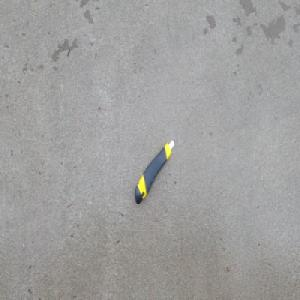Cutter: (134, 138, 175, 205)
